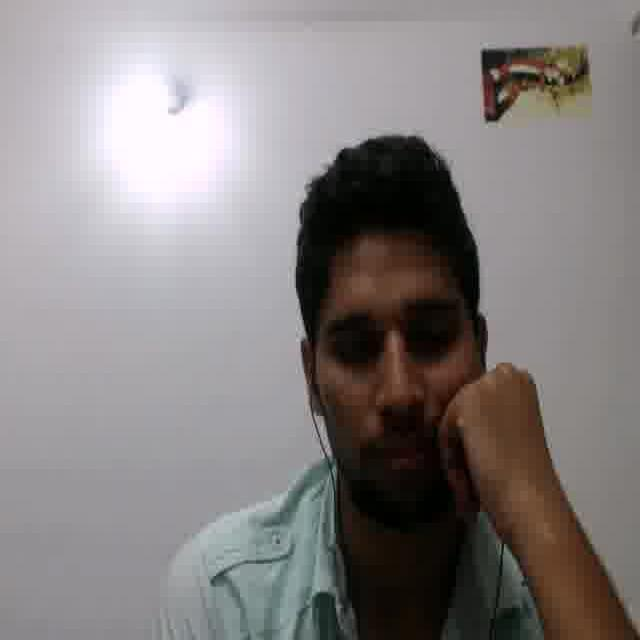Boredom: (308, 240, 473, 511)
